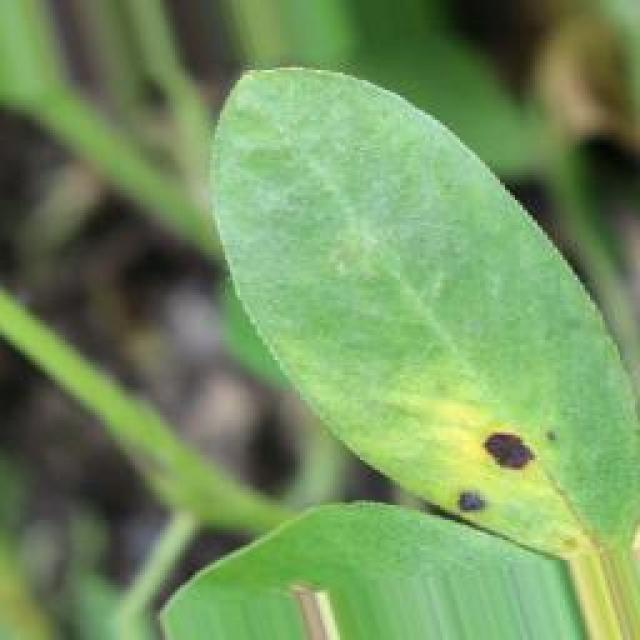Yellowish: (429, 396, 547, 530)
